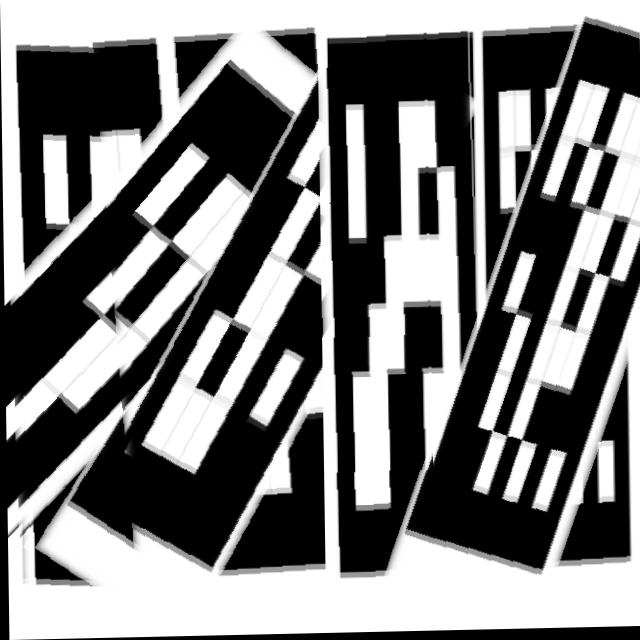aruco: (92, 21, 409, 635), (0, 9, 281, 625), (426, 13, 640, 633), (317, 0, 483, 634)
